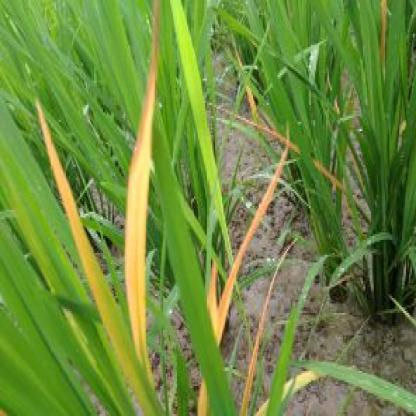Tungro: (124, 7, 164, 358)
